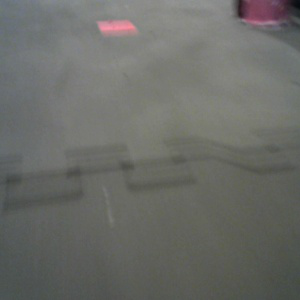Right: (232, 1, 287, 25)
